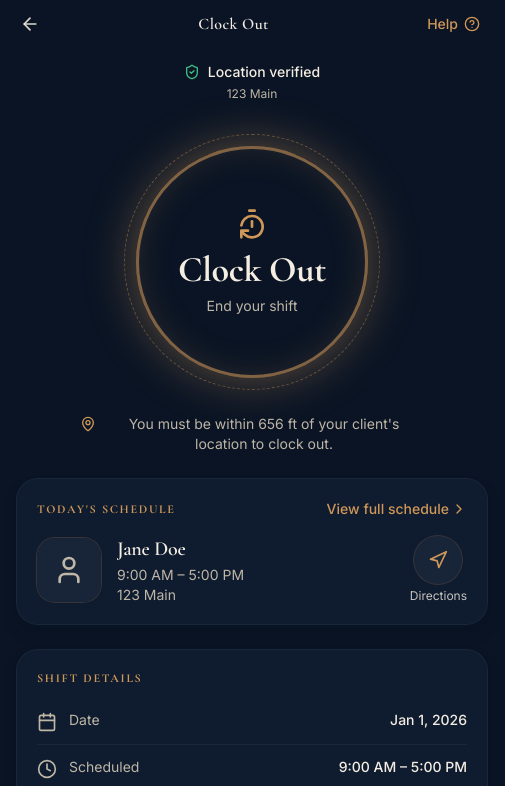
Test: Caregiver clock-in / clock-out flow › reuses the same geofence + retry messaging for clock-out as clock-in
Click the button "Clock Out End your shift" at (252, 262), box x1=124 y1=134 x2=380 y2=390
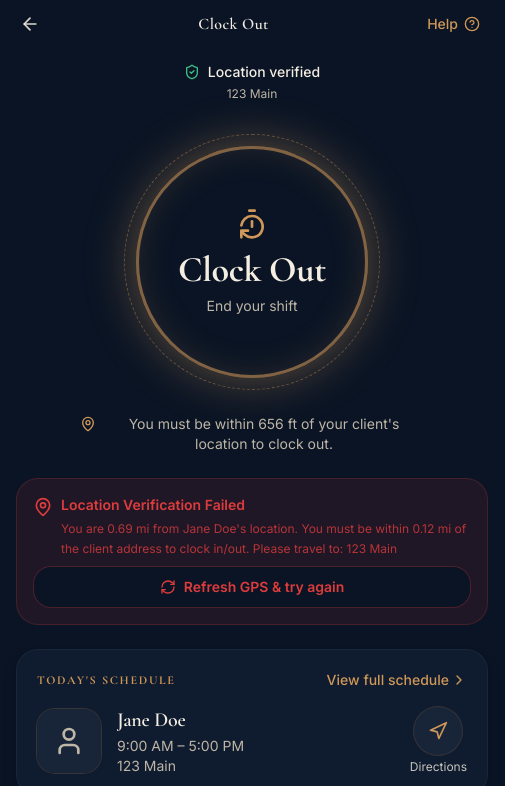
Expected: the text "Location Verification Failed" is shown, x1=61 y1=496 x2=245 y2=513
Expected: the button "Refresh GPS & try again" is shown, x1=33 y1=566 x2=471 y2=608
